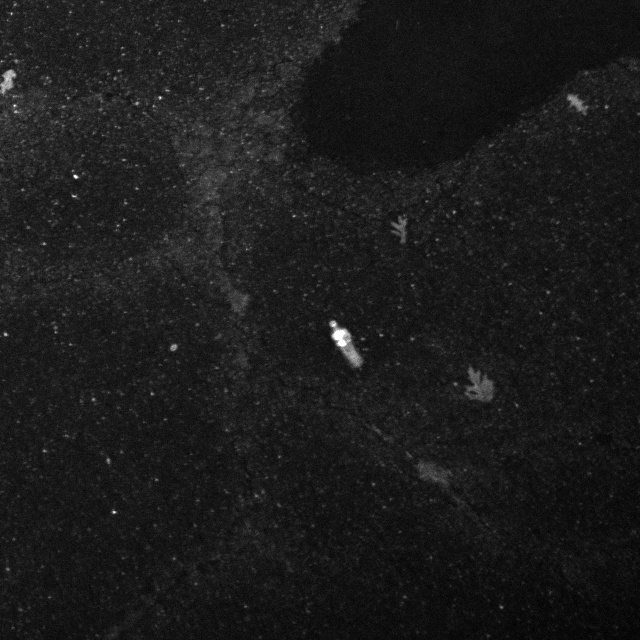bottle: (324, 319, 372, 375)
